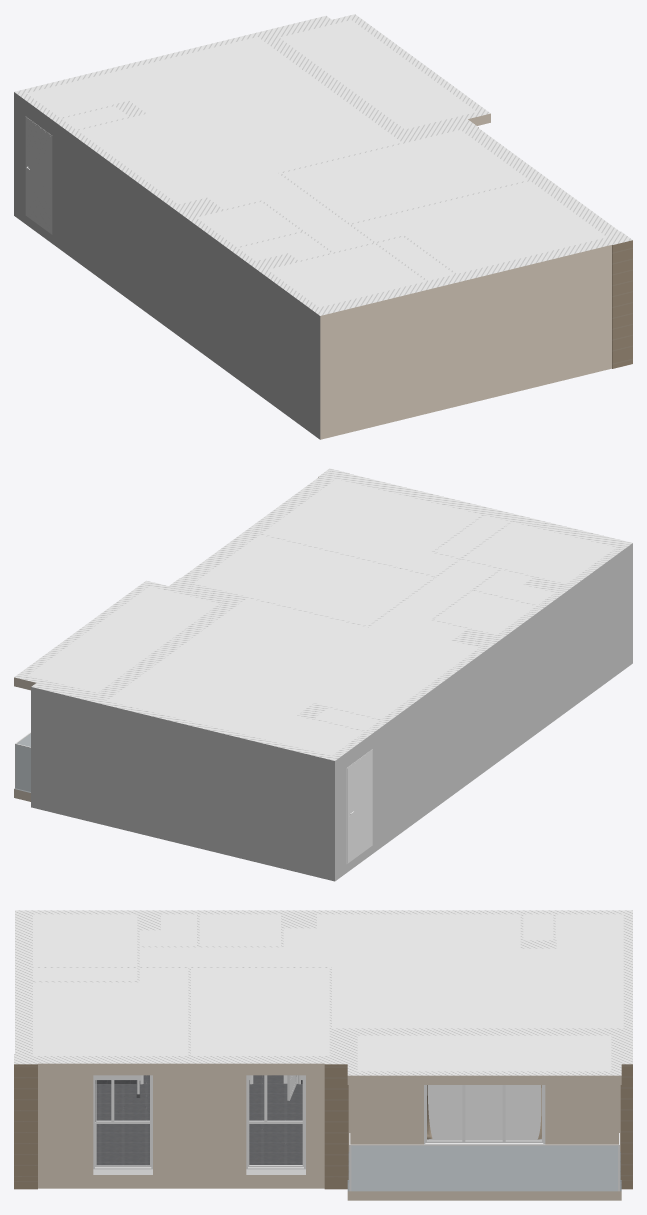
The model's file is t3_a102_location_from_Unity_tagged.gltf.
The picture shows the model from 3 angles, top to bottom: view 1: azimuth 30°, elevation 25°; view 2: azimuth 150°, elevation 25°; view 3: azimuth 270°, elevation 25°; orthographic projection. The views are drawn at different scales.
Visible parts, largest first — view 1: masonry_01, ceiling_01, door_01; view 2: masonry_01, ceiling_01, door_01, railing_glass_100_01; view 3: ceiling_01, masonry_01, railing_glass_100_01, ground_living_01, ground_bed_02, french_base_window_double_01, ground_bed_01.
Part boxes in pixels (bbox=[...]): masonry_01: bbox=[14, 14, 632, 439]; ceiling_01: bbox=[27, 20, 606, 307]; door_01: bbox=[25, 116, 52, 234]; masonry_01: bbox=[14, 468, 632, 881]; ceiling_01: bbox=[27, 479, 615, 755]; door_01: bbox=[346, 749, 372, 863]; railing_glass_100_01: bbox=[15, 732, 30, 791]; ceiling_01: bbox=[33, 914, 623, 1071]; masonry_01: bbox=[14, 910, 632, 1200]; railing_glass_100_01: bbox=[349, 1133, 619, 1191]; ground_living_01: bbox=[283, 1075, 541, 1140]; ground_bed_02: bbox=[95, 1083, 149, 1165]; french_base_window_double_01: bbox=[93, 1075, 545, 1169]; ground_bed_01: bbox=[249, 1083, 302, 1164].
Size of the model in its own units: 7.71 by 2.7 by 12.12.
Materials: 54 (53 with a texture image).
